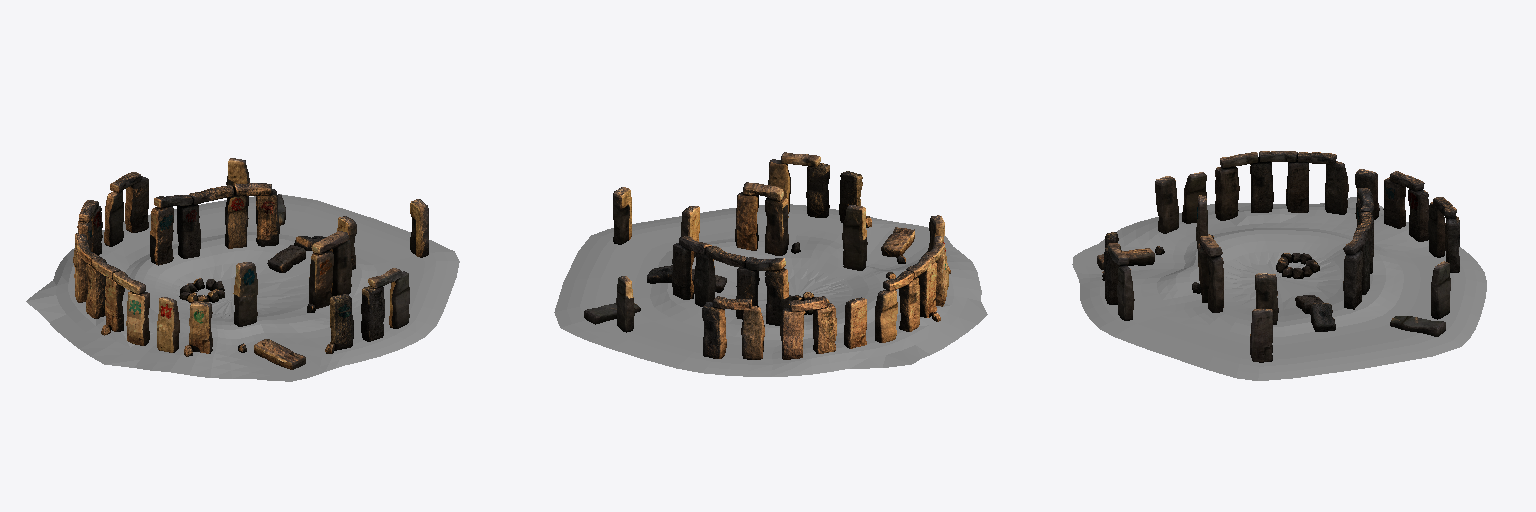
3 renders of one model, left to right at view 1: azimuth 30°, elevation 25°; view 2: azimuth 150°, elevation 25°; view 3: azimuth 270°, elevation 25°, orthographic.
Parts seen in each view (by area): view 1: floor, front_rocks, middle_rocks, back_rocks, rockLP020, far_back_stones, rockLP058; view 2: floor, back_rocks, front_rocks, middle_rocks, far_back_stones, rockLP020; view 3: floor, back_rocks, front_rocks, far_back_stones, middle_rocks, rockLP058, rockLP020.
Part boxes in pixels (x1,y1,x2,y2): floor: (26, 194, 459, 381); front_rocks: (113, 231, 409, 369); middle_rocks: (150, 183, 325, 272); back_rocks: (73, 172, 148, 331); rockLP020: (330, 286, 384, 350); far_back_stones: (226, 158, 428, 269); rockLP058: (179, 278, 224, 302); floor: (554, 204, 987, 376); back_rocks: (702, 255, 936, 359); front_rocks: (735, 152, 948, 306); middle_rocks: (647, 236, 789, 325); far_back_stones: (584, 187, 699, 332); rockLP020: (806, 163, 862, 223); floor: (1072, 197, 1486, 380); back_rocks: (1250, 151, 1459, 272); front_rocks: (1097, 152, 1258, 320); far_back_stones: (1250, 261, 1450, 362); middle_rocks: (1295, 188, 1373, 331); rockLP058: (1276, 253, 1319, 278); rockLP020: (1104, 232, 1119, 304).
Bounding box in the file's own units: 1470 × 304 × 1405.
Materials: 8 (7 with a texture image).